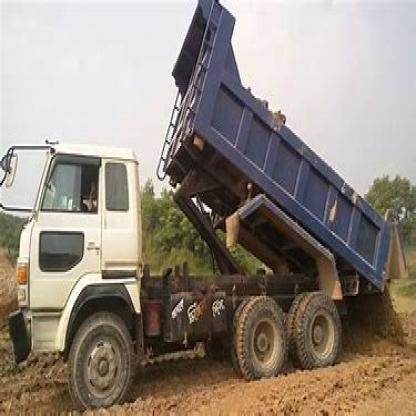dump_truck: (10, 0, 395, 409)
